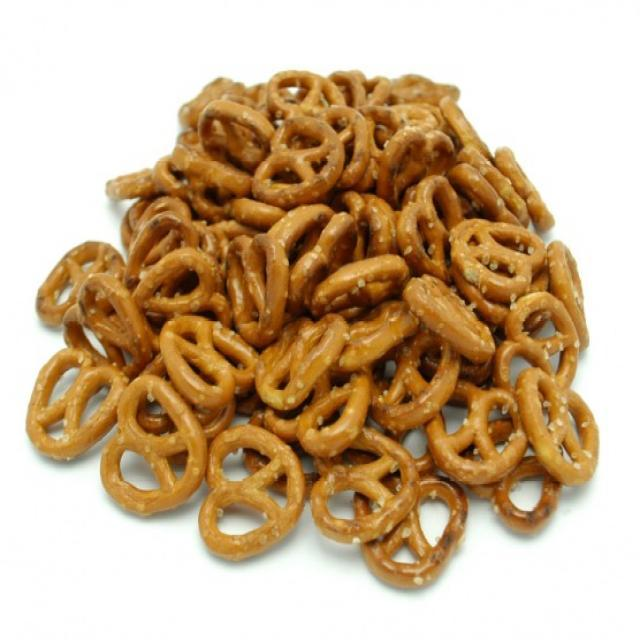Salatini: (22, 67, 602, 583)
